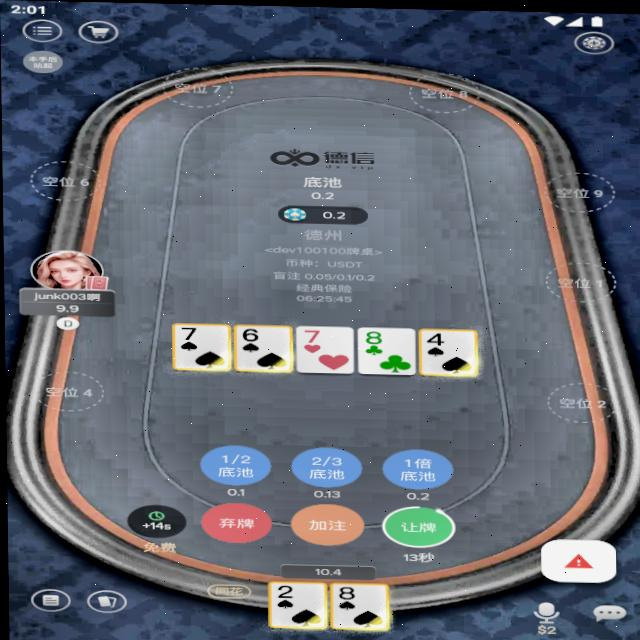2s: (270, 582, 296, 599)
4s: (424, 329, 447, 345)
6s: (235, 325, 268, 342)
7h: (299, 326, 326, 344)
7s: (176, 325, 202, 341)
8m: (361, 327, 387, 344)
8s: (333, 584, 357, 600)
